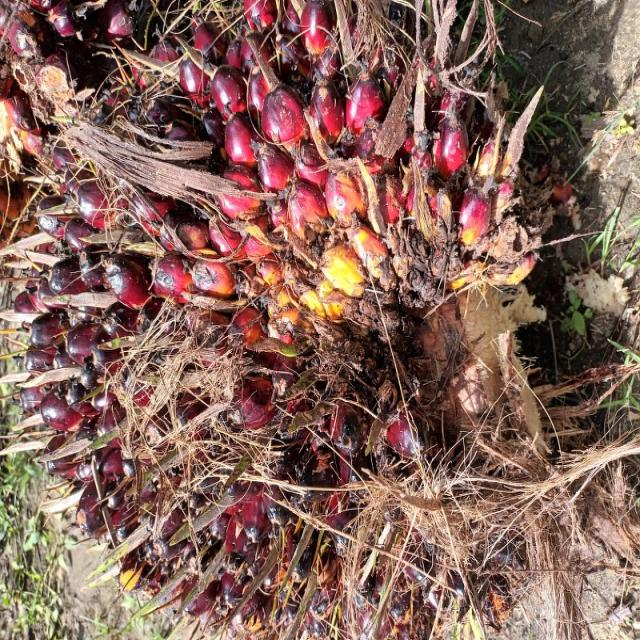fraksi 1: (2, 0, 466, 640)
